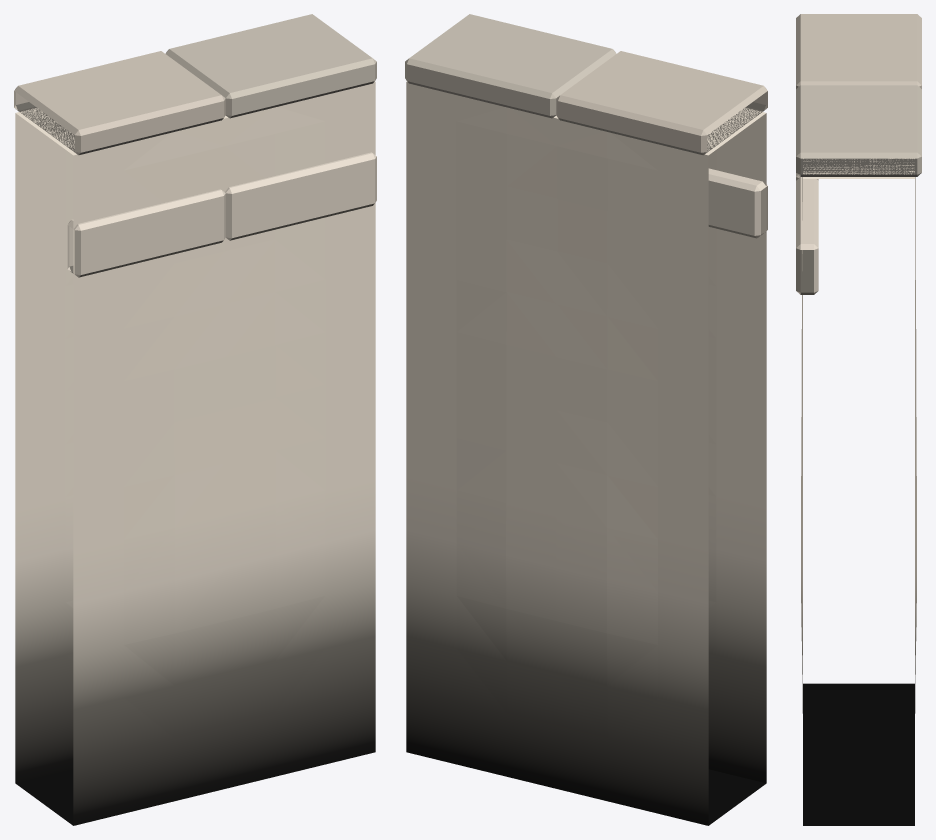
Rendered from SM_VKI_Wall_Ancient_Plain_150A_Full.fbx.
3 renders of one model, left to right at view 1: azimuth 30°, elevation 25°; view 2: azimuth 150°, elevation 25°; view 3: azimuth 270°, elevation 25°, orthographic. The views are drawn at different scales.
Parts seen in each view (by area): view 1: SM_VKI_Wall_Ancient_Plain_150A_Full.001; view 2: SM_VKI_Wall_Ancient_Plain_150A_Full.001; view 3: SM_VKI_Wall_Ancient_Plain_150A_Full.001.
Boxes of the visible parts, bbox=[...] form: SM_VKI_Wall_Ancient_Plain_150A_Full.001: bbox=[14, 14, 376, 825]; SM_VKI_Wall_Ancient_Plain_150A_Full.001: bbox=[405, 14, 767, 825]; SM_VKI_Wall_Ancient_Plain_150A_Full.001: bbox=[796, 14, 921, 825].
Size of the model in its own units: 1.5 by 3.3 by 0.56.
